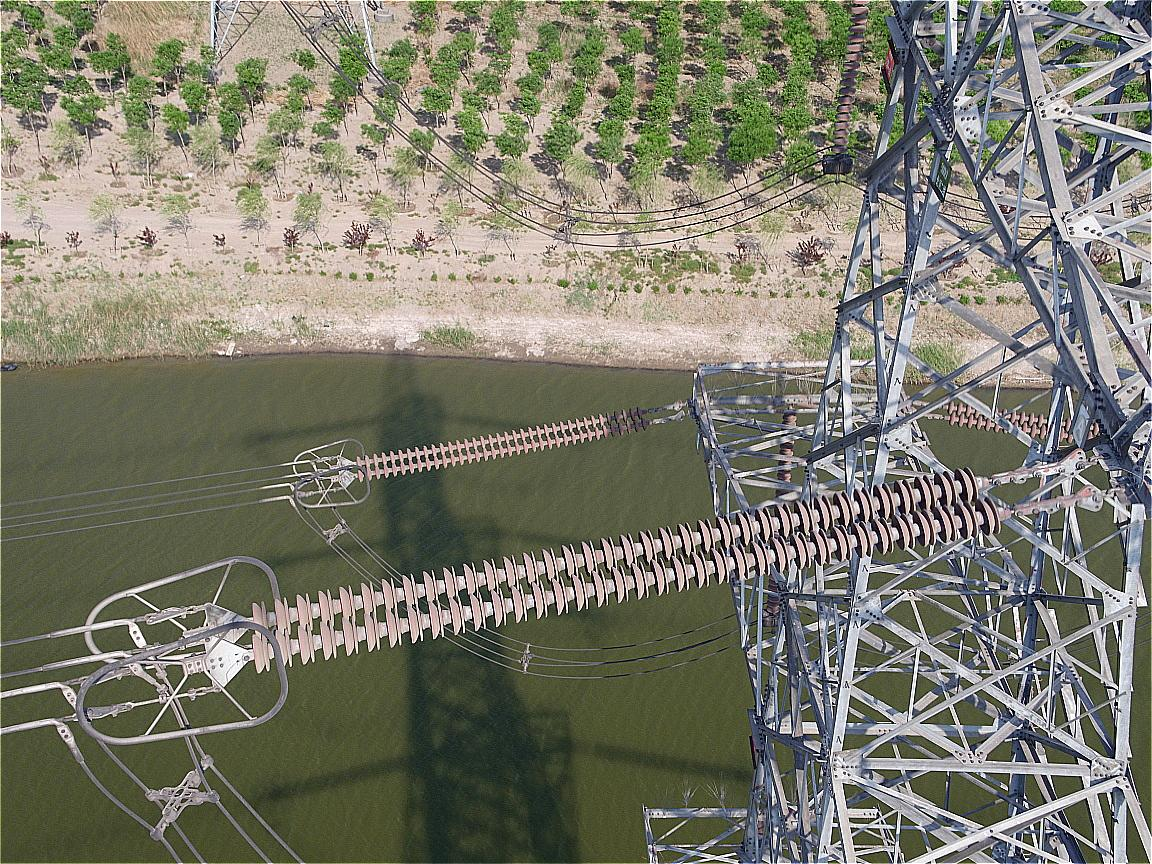insultor1: (355, 407, 649, 486)
insultor2: (249, 466, 1001, 676)
